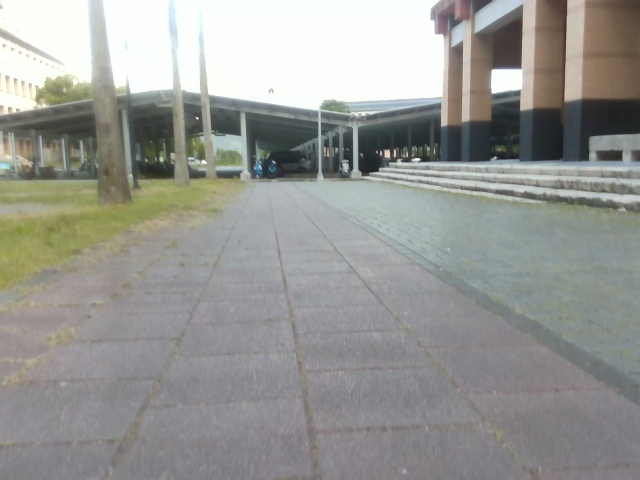grass: (0, 176, 243, 296), (142, 138, 239, 177), (36, 75, 90, 105)
road: (0, 179, 639, 479)
sidewalk: (289, 173, 586, 212)
